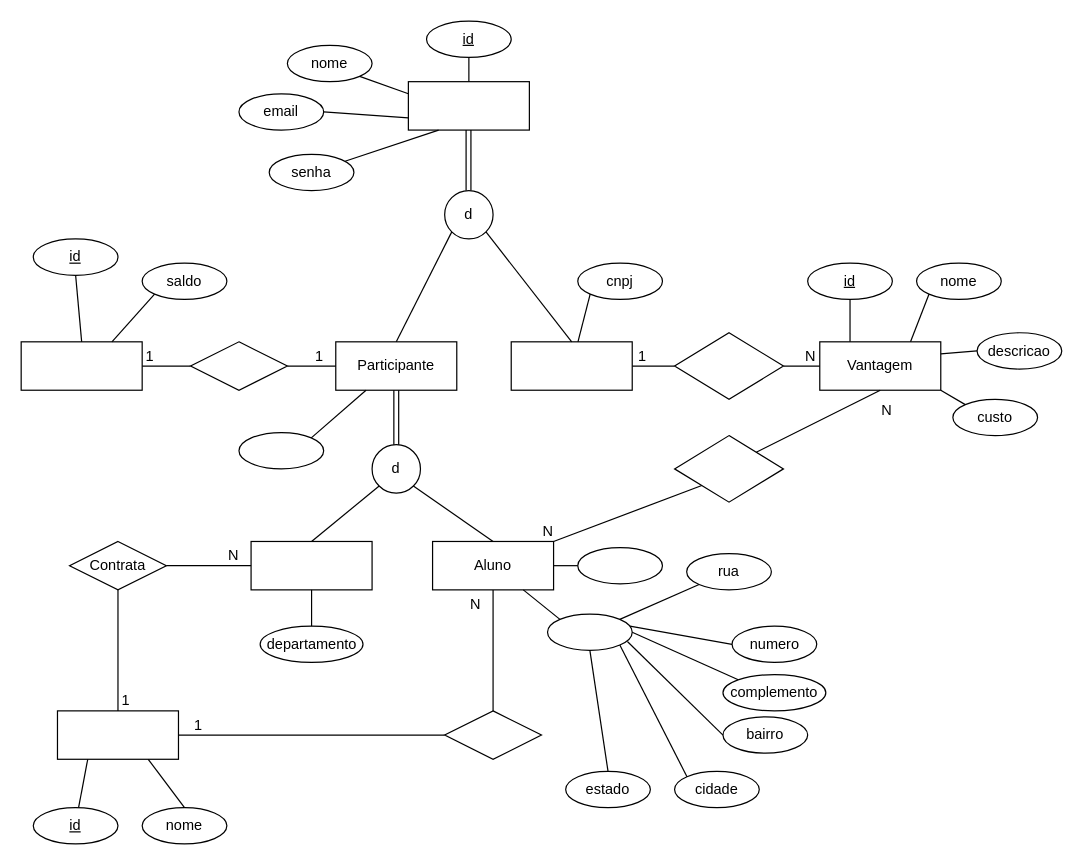
The diagram is 1083 pixels wide and 865 high, and some of its shapes have lost their labels. Each missing label, with the centre of its shape:
"Conta" belongs at point (81, 365).
"cpf" belongs at point (281, 450).
"Disponibilza" belongs at point (728, 365).
"endereço" belongs at point (589, 631).
"Estuda" belongs at point (492, 734).
"Instituição" belongs at point (117, 734).
"Parceiro" belongs at point (571, 365).
"Possui" belongs at point (238, 365).
"Professor" belongs at point (311, 565).
"Resgata" belongs at point (728, 468).
"rg" belongs at point (619, 565).
"Usuário" belongs at point (468, 105).
